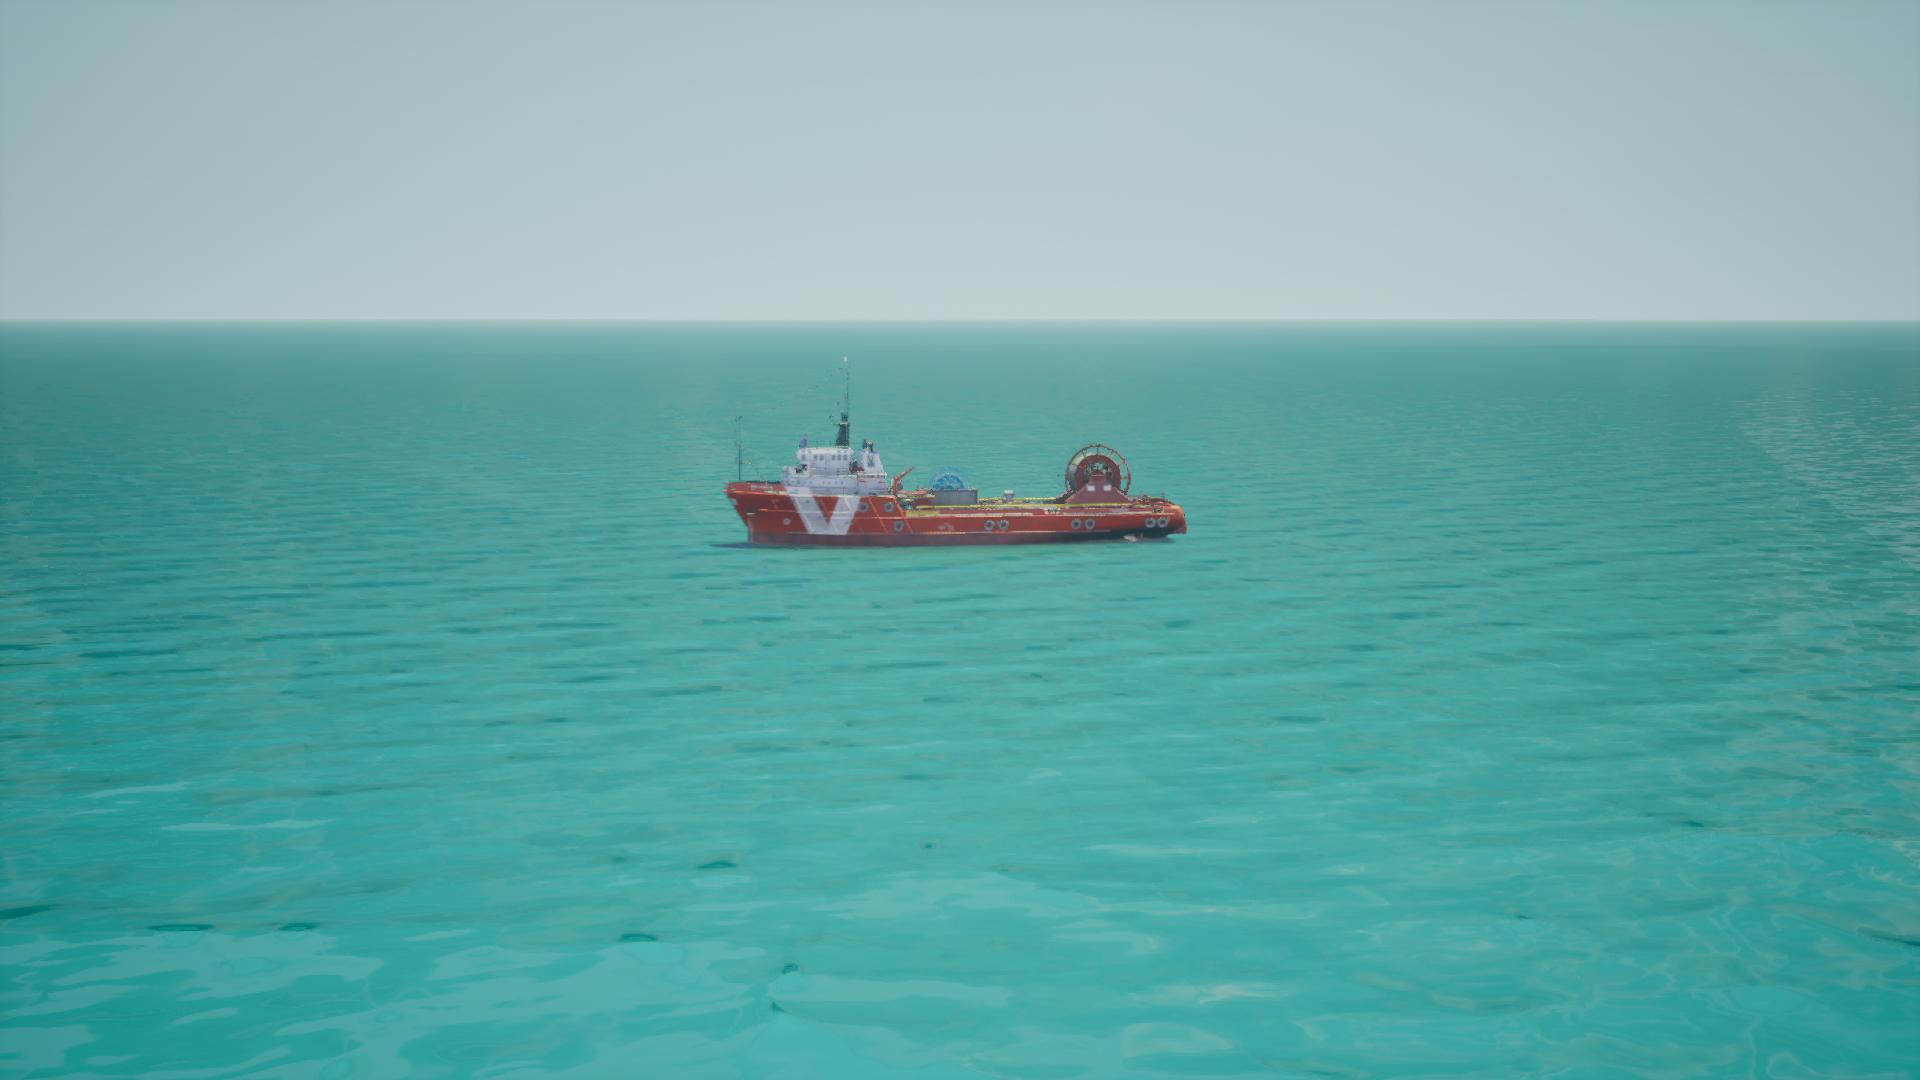Tug Boat: (716, 352, 1185, 551)
